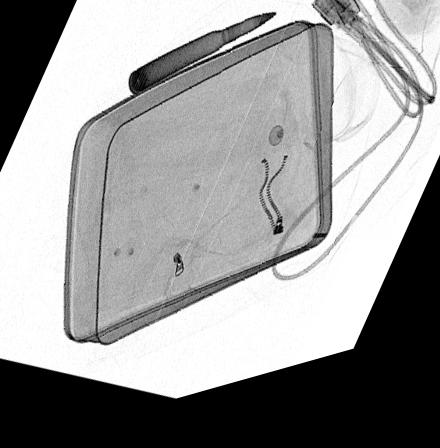Bullet: (126, 28, 278, 102)
